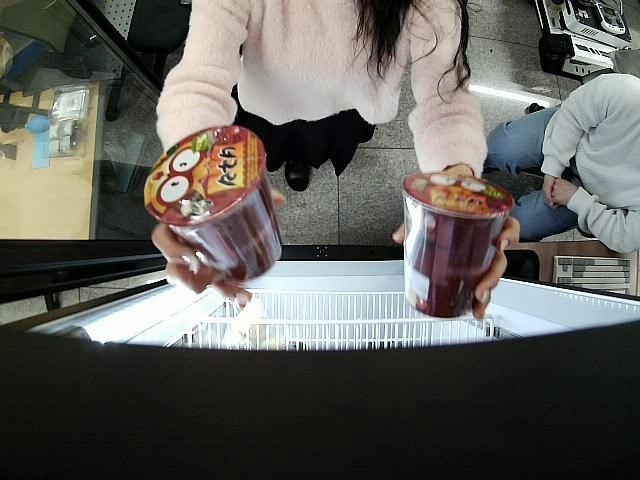06_nuguri_S: (144, 124, 280, 285), (403, 172, 514, 318)
